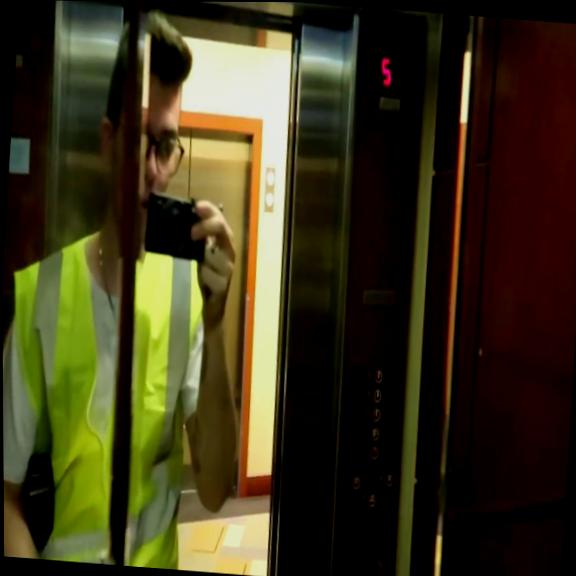safety_vest: (2, 221, 209, 571)
